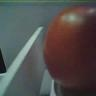tomato: (43, 6, 96, 96)
